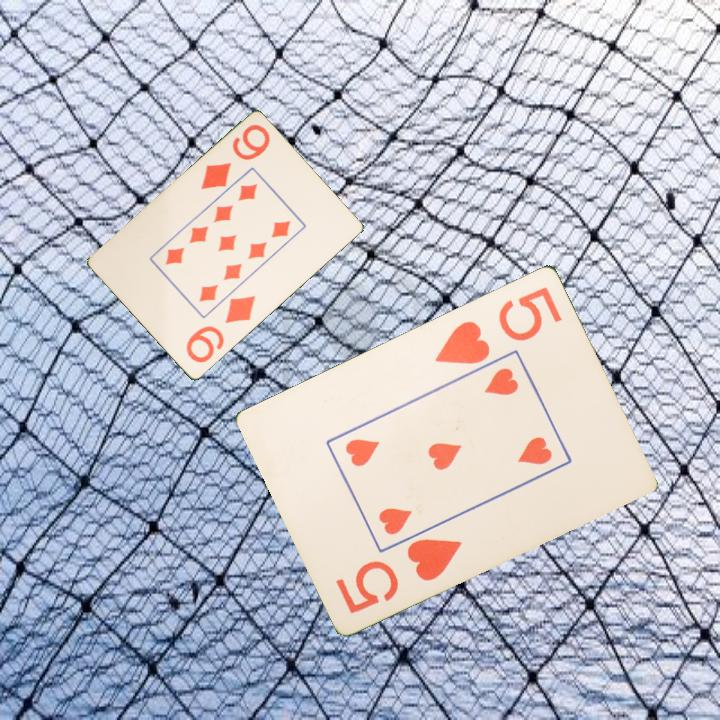5h: (431, 282, 566, 367), (332, 534, 466, 616)
9d: (182, 292, 258, 366), (197, 121, 273, 193)
